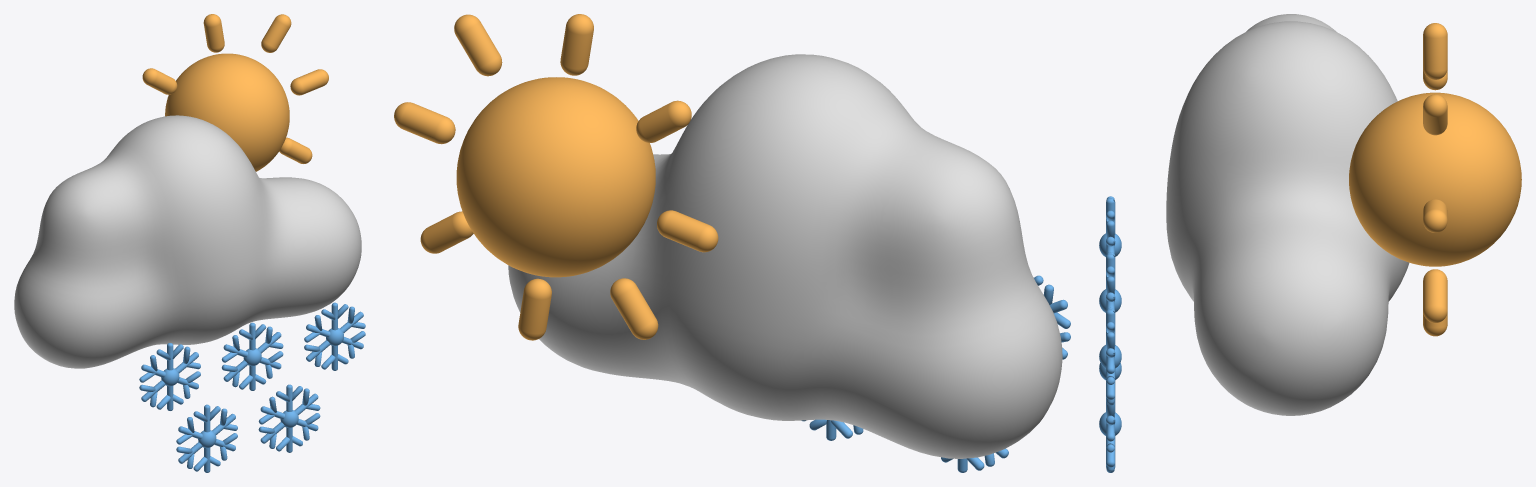
File: snow-day.glb
The picture shows the model from 3 angles, left to right: view 1: azimuth 30°, elevation 25°; view 2: azimuth 150°, elevation 25°; view 3: azimuth 270°, elevation 25°; orthographic projection. The views are drawn at different scales.
Visible parts, largest first — view 1: 0019; view 2: 0019; view 3: 0019.
Part boxes in pixels (x1=…): 0019: x1=14, y1=14, x2=365, y2=472; 0019: x1=394, y1=14, x2=1070, y2=472; 0019: x1=1099, y1=14, x2=1521, y2=472.
Bounding box in the file's own units: 2.54 × 2.32 × 1.88.
